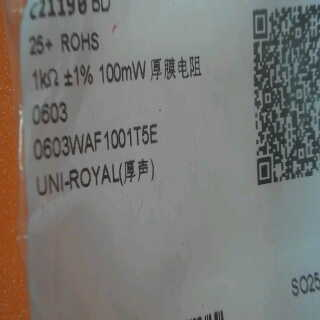1kR: (30, 64, 61, 93)
